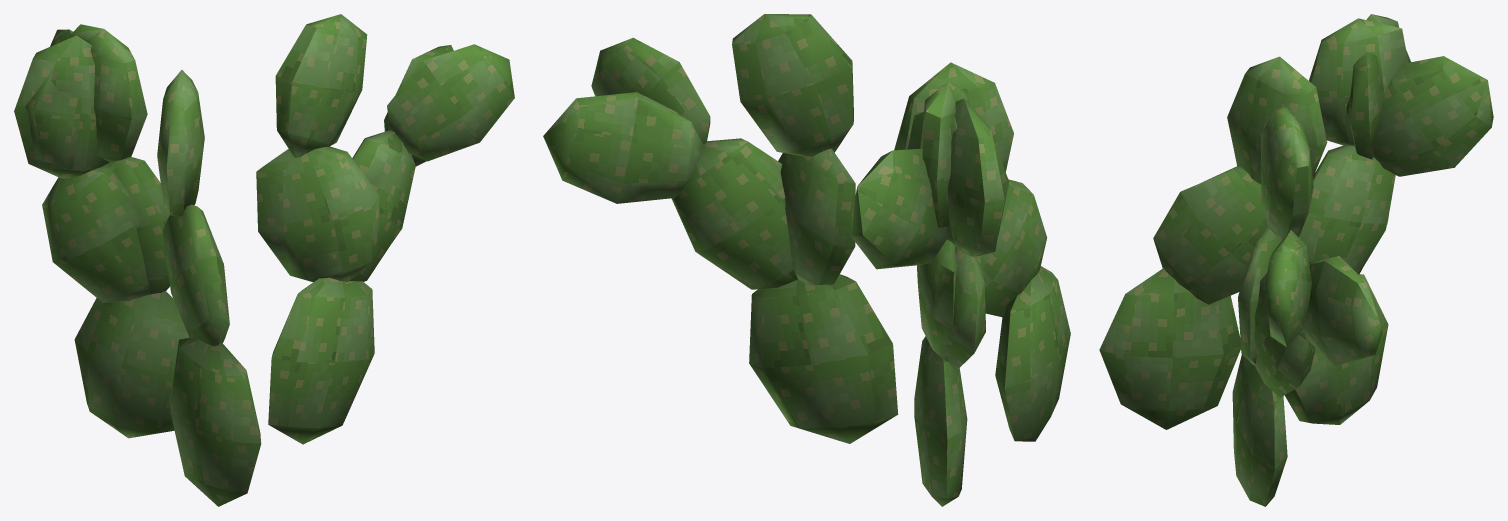
The model's file is prickly_pear.glb.
3 views of the same model, side by side, from view 1: azimuth 30°, elevation 25°; view 2: azimuth 150°, elevation 25°; view 3: azimuth 270°, elevation 25° (orthographic). The views are drawn at different scales.
Parts seen in each view (by area): view 1: prickly_pear; view 2: prickly_pear; view 3: prickly_pear.
Boxes of the visible parts, bbox=[...] form: prickly_pear: bbox=[14, 14, 514, 506]; prickly_pear: bbox=[543, 14, 1070, 506]; prickly_pear: bbox=[1099, 14, 1493, 506].
Bounding box in the file's own units: 1.26 × 1.12 × 0.9884.
Materials: 1 (1 with a texture image).
